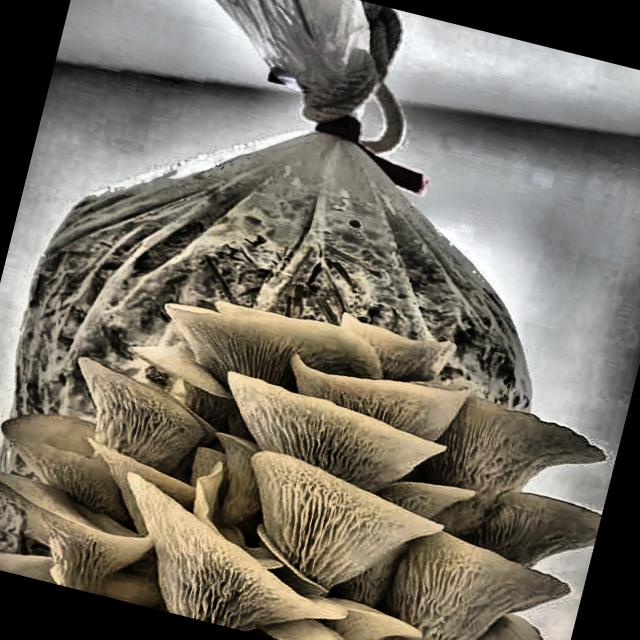Healthy: (0, 241, 631, 640)
